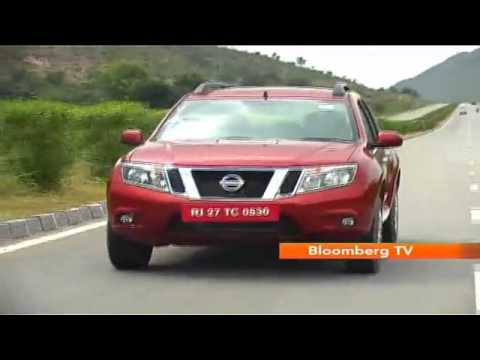number_plate: (179, 203, 281, 224)
